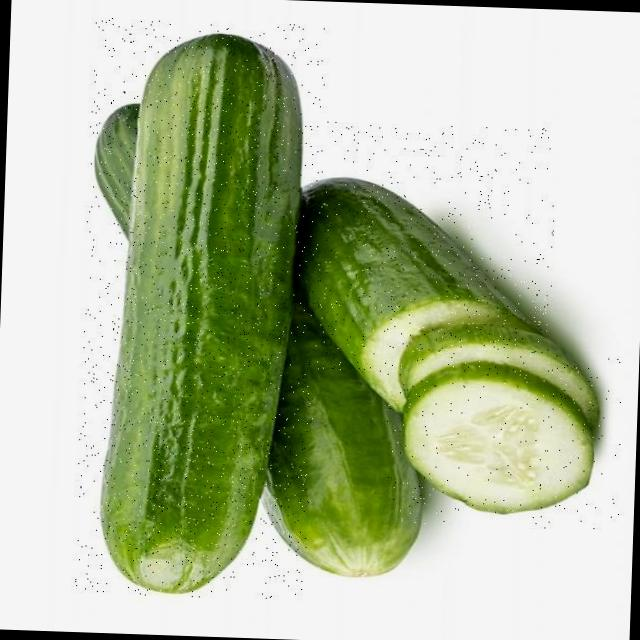Cucumber: (90, 31, 304, 594)
